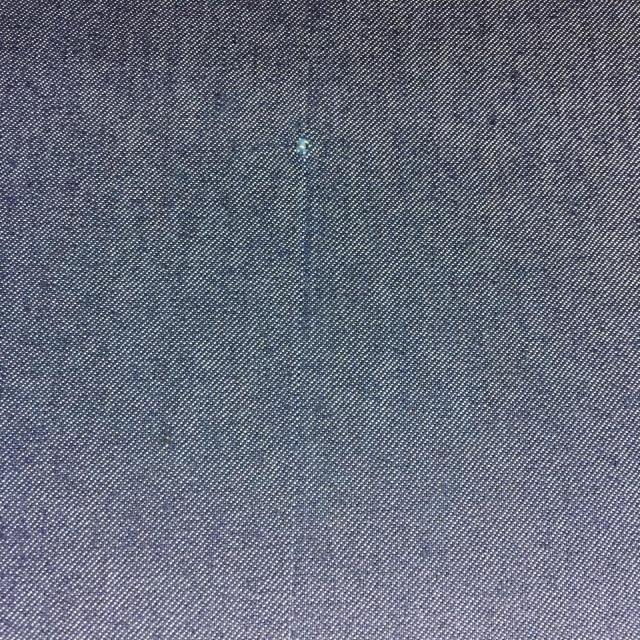Line: (284, 0, 316, 638)
